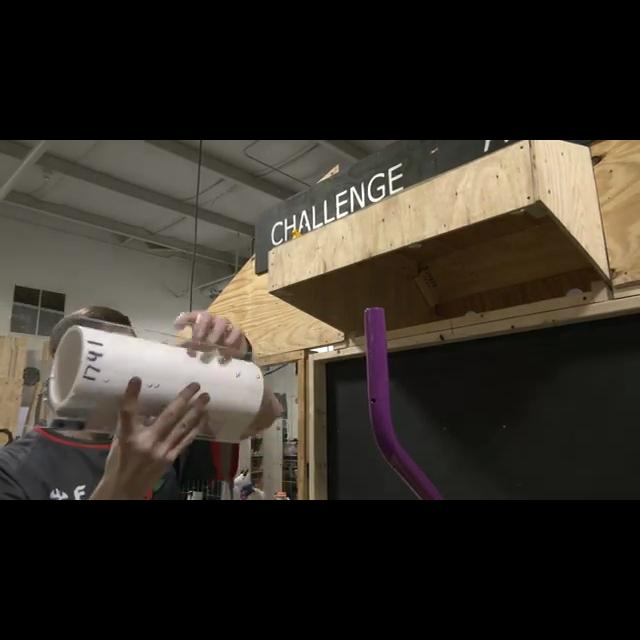CORAL: (45, 324, 266, 444)
